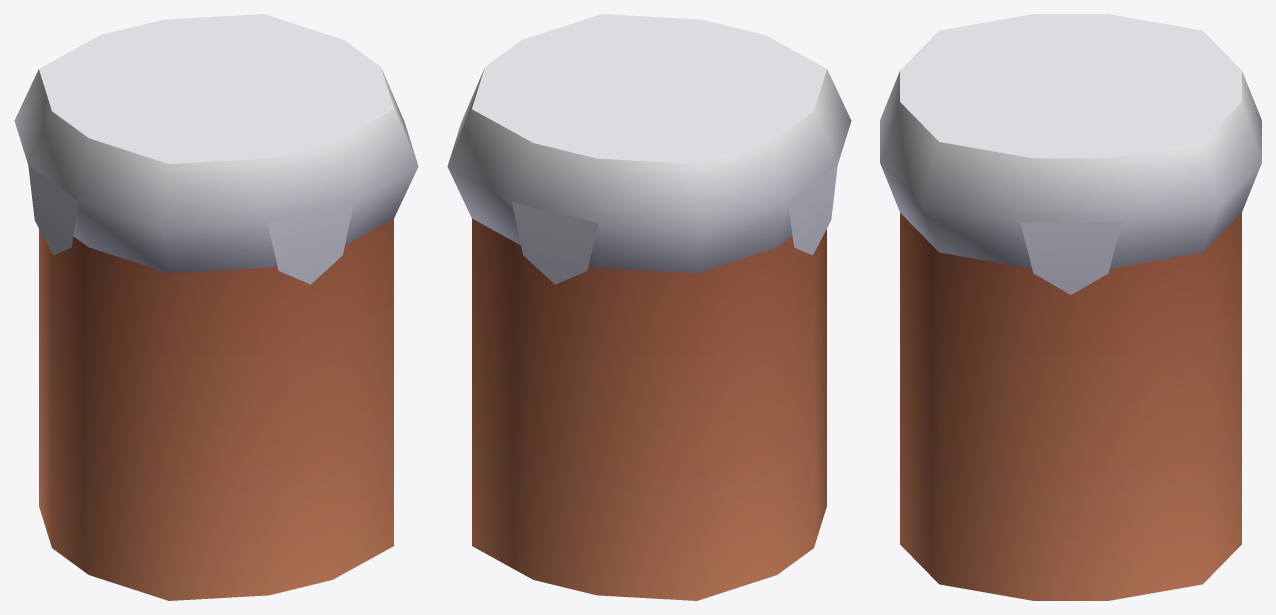
File: kenney-platformer-block-snow-overhang-narrow.glb
3 views of the same model, side by side, from view 1: azimuth 30°, elevation 25°; view 2: azimuth 150°, elevation 25°; view 3: azimuth 270°, elevation 25° (orthographic).
Visible parts, largest first — view 1: block-snow-overhang-narrow; view 2: block-snow-overhang-narrow; view 3: block-snow-overhang-narrow.
Boxes of the visible parts, x1,y1,x2,y2 form: block-snow-overhang-narrow: (14,14,418,600); block-snow-overhang-narrow: (447,14,851,600); block-snow-overhang-narrow: (880,14,1261,600).
Bounding box in the file's own units: 0.7821 × 1 × 0.7821.
1 material, 1 textured.
